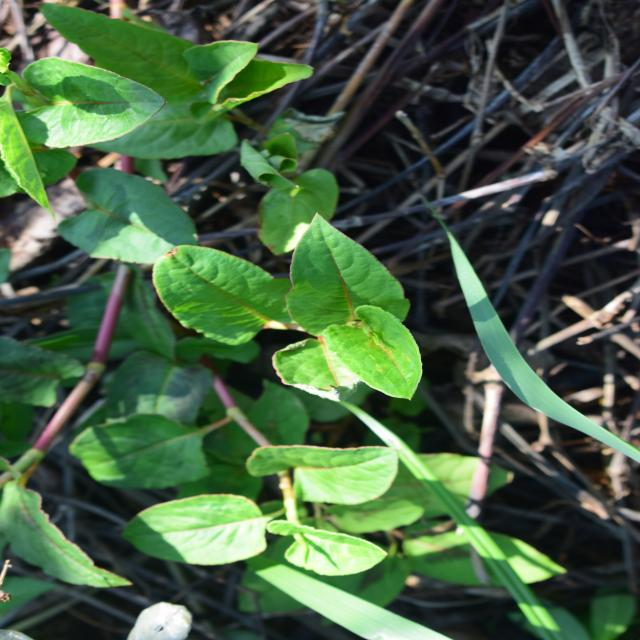Chinese_knotweed: (249, 135, 416, 427), (51, 132, 216, 377)
